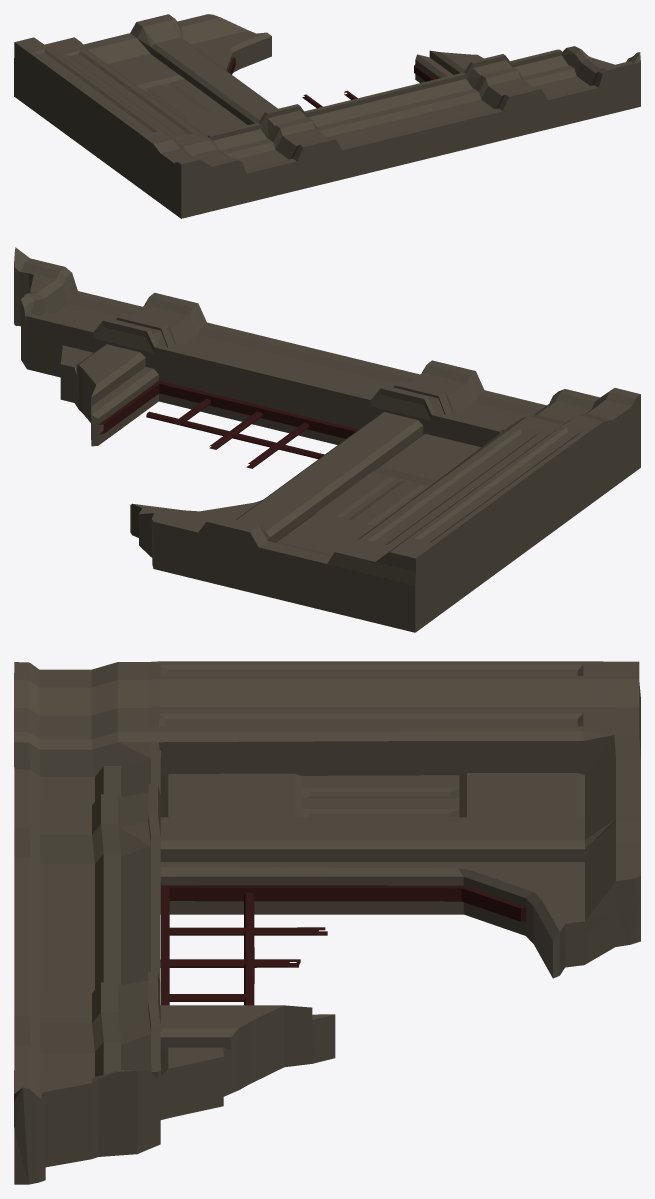
File: FBX_MonoCassé.fbx
The picture shows the model from 3 angles, top to bottom: view 1: azimuth 30°, elevation 25°; view 2: azimuth 150°, elevation 25°; view 3: azimuth 270°, elevation 25°; orthographic projection. The views are drawn at different scales.
Parts seen in each view (by area): view 1: P_F_MonoW; view 2: P_F_MonoW; view 3: P_F_MonoW.
Part boxes in pixels (<box>): P_F_MonoW: <box>14,14,640,218</box>; P_F_MonoW: <box>14,247,640,632</box>; P_F_MonoW: <box>14,661,640,1184</box>.
Size of the model in its own units: 621 by 70.51 by 390.
